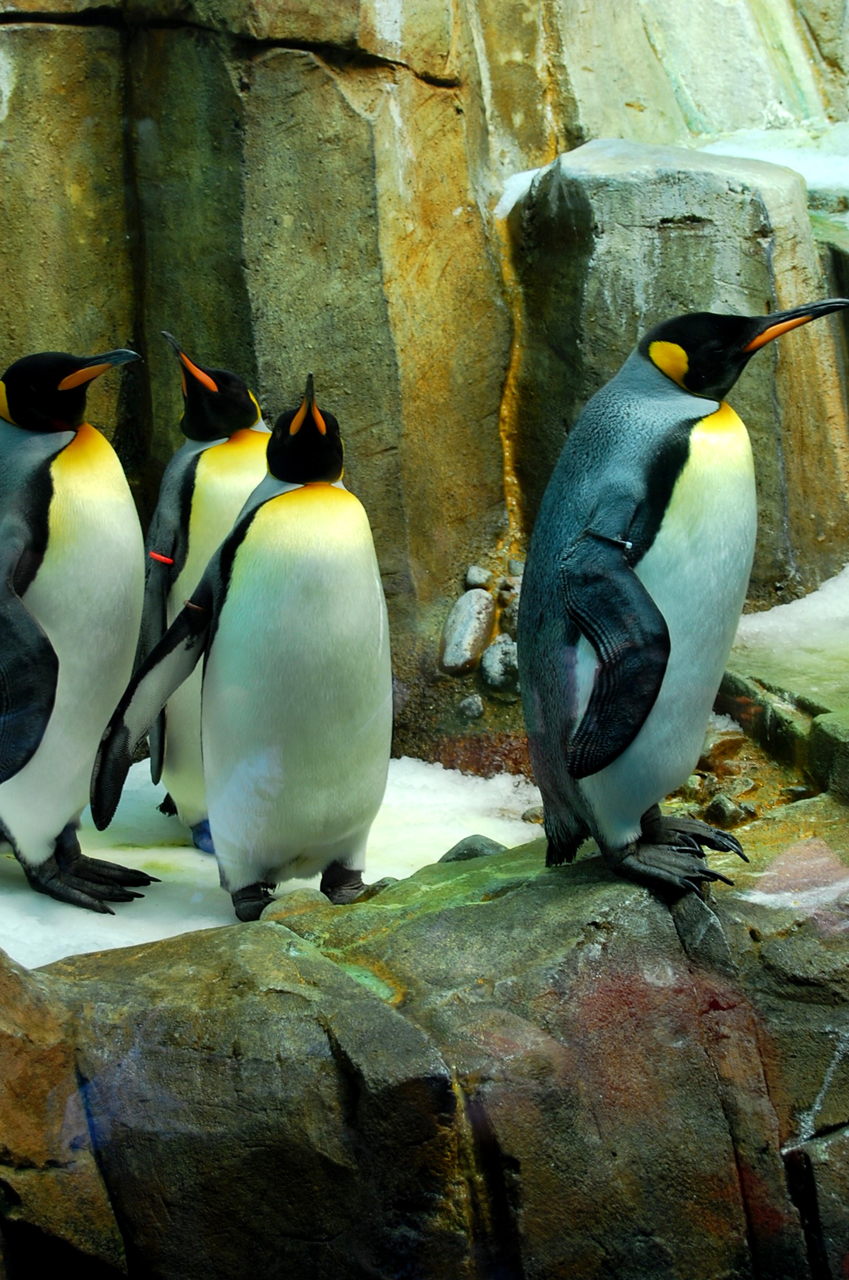penguin: (517, 296, 848, 908), (104, 374, 382, 916), (8, 347, 170, 923)
